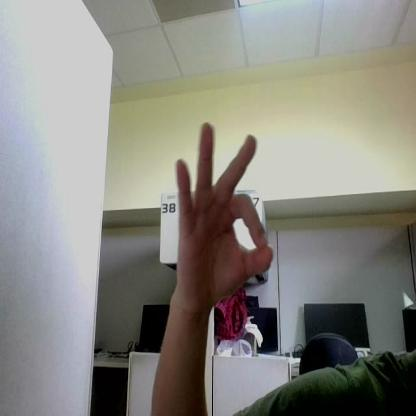F: (176, 123, 272, 298)
